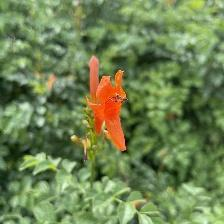honeysuckle: (87, 67, 136, 155)
